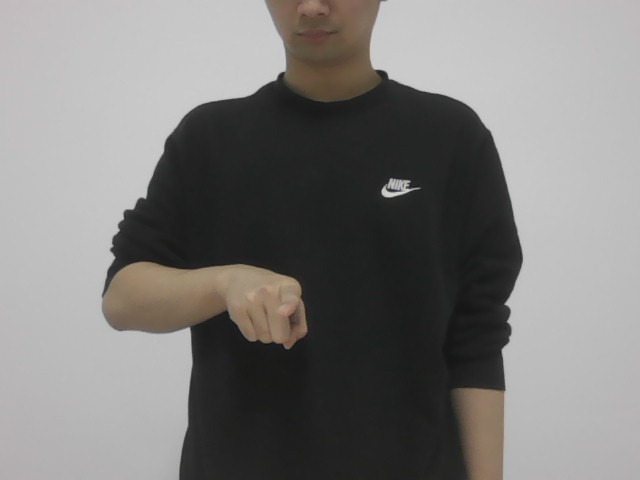you/your/this: (217, 259, 318, 357)
